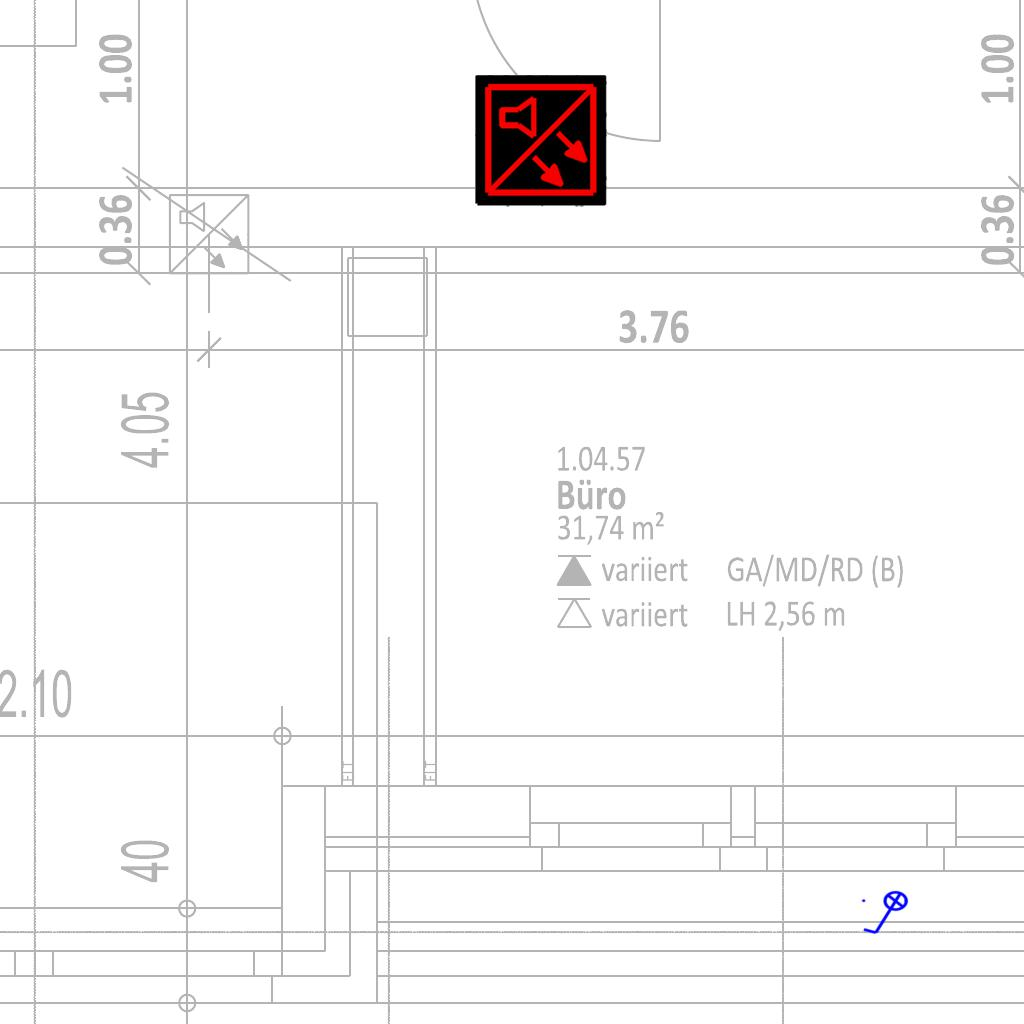Ausschalter_beleuchtet: (859, 890, 915, 938)
OKW_Multisensormelder_(Kombination_optischer_Rauch-Kahlenmonoxid_Waerme-Melder): (475, 75, 607, 207)
